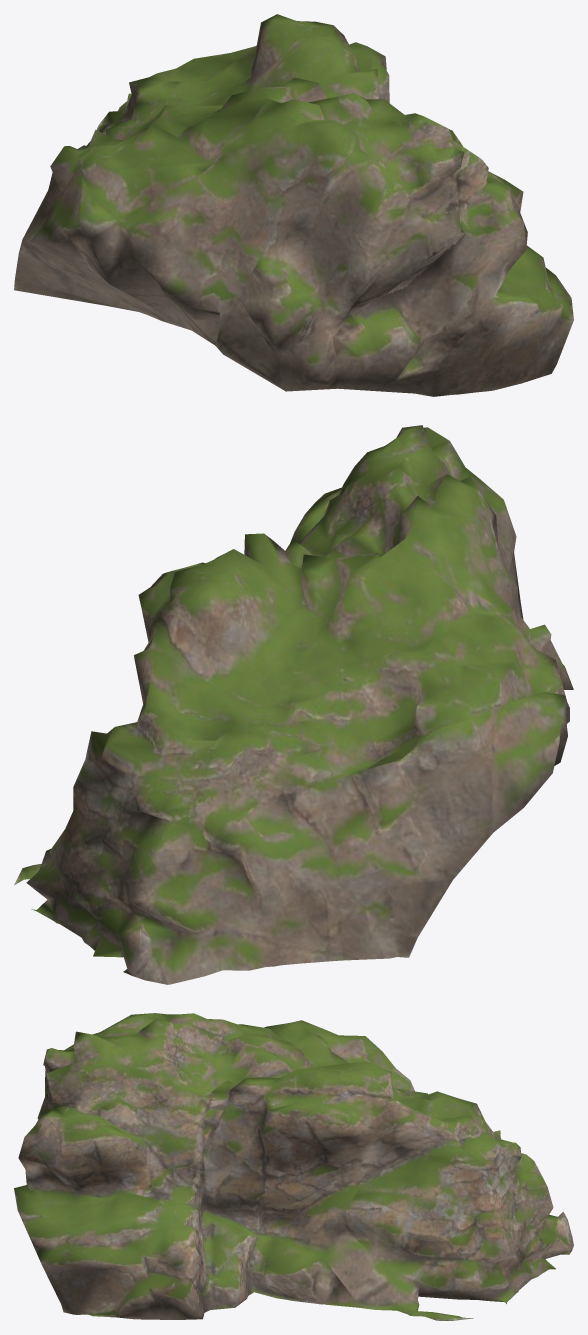
The model's file is fels-1.glb.
3 renders of one model, top to bottom at view 1: azimuth 30°, elevation 25°; view 2: azimuth 150°, elevation 25°; view 3: azimuth 270°, elevation 25°, orthographic. The views are drawn at different scales.
Parts seen in each view (by area): view 1: fels-1; view 2: fels-1; view 3: fels-1.
Part boxes in pixels (box(x1,y1,x2,y2)): fels-1: box(14, 14, 573, 396); fels-1: box(14, 425, 573, 984); fels-1: box(14, 1013, 573, 1320).
Bounding box in the file's own units: 1.67 × 1.06 × 2.3.
1 material, 1 textured.
